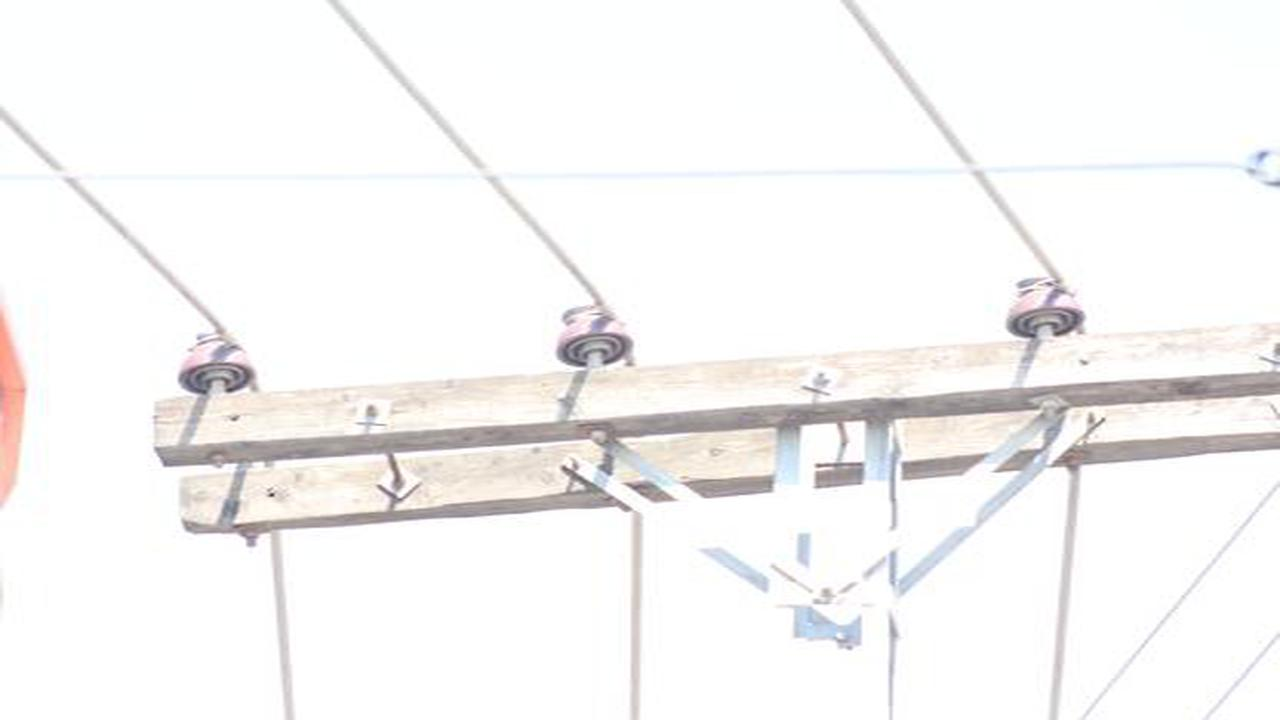insulator_pin: (172, 326, 260, 395), (552, 300, 640, 369), (1002, 273, 1091, 339)
